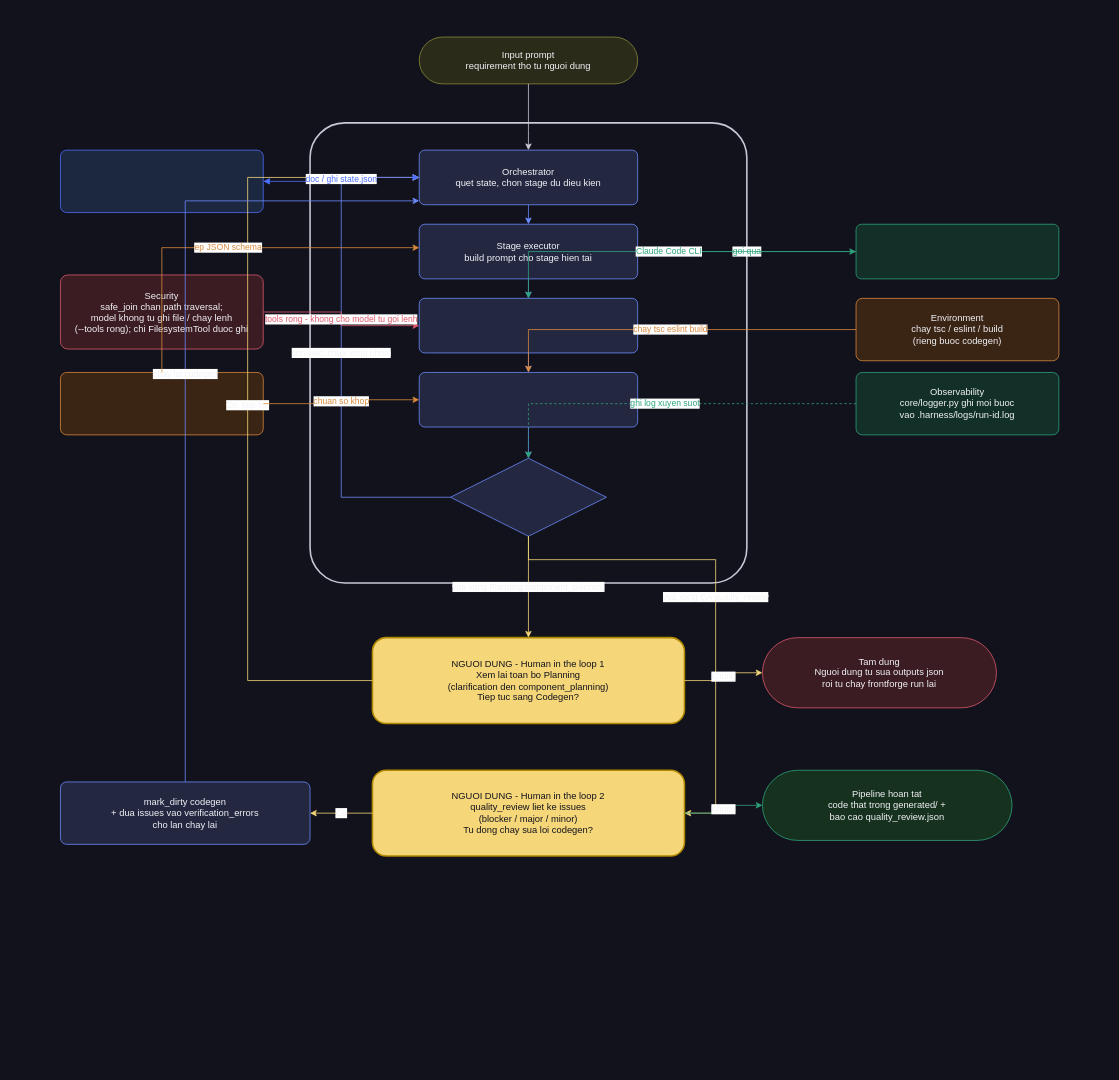
This 1119x1080 diagram has some shape labels left out. The shapes that lost their labels are listed below. From the top down, each one's box as (x1, y1, x2, y2) in pixels, then its label:
(60, 149, 263, 213): Memory state.json + outputs/ (persistent state tren dia)
(855, 223, 1059, 279): Tools goi Claude Code CLI (subprocess)
(418, 298, 638, 353): Claude sinh output theo schema
(60, 372, 263, 435): Guardrails ep --json-schema (khuon ket qua co dinh)
(418, 372, 638, 427): Verification engine cham dau / rot doc lap voi Claude
(450, 457, 606, 536): Stage vua xong thuoc nhom nao?
